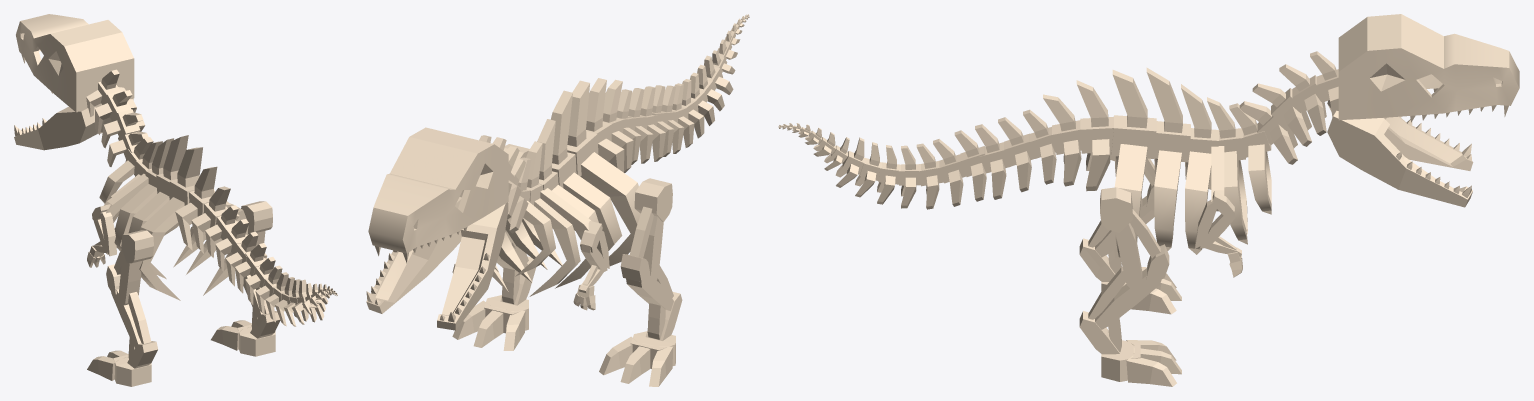
Rendered from skeletal_rex.obj.
The picture shows the model from 3 angles, left to right: view 1: azimuth 30°, elevation 25°; view 2: azimuth 150°, elevation 25°; view 3: azimuth 270°, elevation 25°; orthographic projection. The views are drawn at different scales.
Visible parts, largest first — view 1: Head, Torso, Tail, Meshes/set_10_trex_023 (1), LeftLeg, Meshes/set_10_trex_035 (1), Meshes/set_10_trex_029, Neck, Meshes/set_10_trex_036 (1), Meshes/set_10_trex_030 (1), Meshes/set_10_trex_028, LeftAltLeg (+9 smaller); view 2: Head, Torso, Meshes/set_10_trex_023 (1), Meshes/set_10_trex_029, Tail, LeftLeg, Meshes/set_10_trex_008 (1), Meshes/set_10_trex_035 (1), Meshes/set_10_trex_022 (1), Meshes/set_10_trex_004 (1), Meshes/set_10_trex_036 (1), Meshes/set_10_trex_028 (+9 smaller); view 3: Head, Torso, Tail, Meshes/set_10_trex_008 (1), Meshes/set_10_trex_029, Meshes/set_10_trex_035 (1), RightLeg, Meshes/set_10_trex_030 (1), Meshes/set_10_trex_036 (1), Meshes/set_10_trex_023 (1), Neck, Meshes/set_10_trex_028 (+9 smaller).
Boxes of the visible parts, x1,y1,x2,y2 form: Head: (16, 14, 134, 112); Torso: (104, 135, 248, 300); Tail: (175, 166, 239, 257); Meshes/set_10_trex_023 (1): (14, 106, 104, 150); LeftLeg: (106, 230, 153, 307); Meshes/set_10_trex_035 (1): (215, 219, 273, 293); Meshes/set_10_trex_029: (99, 137, 178, 235); Neck: (86, 69, 136, 134); Meshes/set_10_trex_036 (1): (245, 257, 296, 322); Meshes/set_10_trex_030 (1): (101, 109, 148, 166); Meshes/set_10_trex_028: (275, 277, 324, 326); LeftAltLeg: (111, 289, 151, 347); Head: (368, 127, 508, 263); Torso: (499, 80, 640, 288); Meshes/set_10_trex_023 (1): (437, 202, 508, 330); Meshes/set_10_trex_029: (492, 141, 580, 296); Tail: (586, 78, 641, 172); LeftLeg: (620, 178, 672, 288); Meshes/set_10_trex_008 (1): (366, 197, 461, 313); Meshes/set_10_trex_035 (1): (628, 85, 674, 163); Meshes/set_10_trex_022 (1): (599, 336, 673, 386); Meshes/set_10_trex_004 (1): (452, 300, 525, 350); Meshes/set_10_trex_036 (1): (661, 79, 704, 153); Meshes/set_10_trex_028: (690, 55, 733, 125); Head: (1338, 14, 1519, 122); Torso: (1111, 67, 1224, 258); Tail: (1023, 80, 1113, 191); Meshes/set_10_trex_008 (1): (1327, 110, 1472, 207); Meshes/set_10_trex_029: (1207, 97, 1271, 244); Meshes/set_10_trex_035 (1): (954, 117, 1034, 201); RightLeg: (1100, 187, 1169, 293); Meshes/set_10_trex_030 (1): (1239, 83, 1311, 164); Meshes/set_10_trex_036 (1): (898, 139, 966, 209); Meshes/set_10_trex_023 (1): (1327, 100, 1473, 170); Neck: (1279, 51, 1338, 135); Meshes/set_10_trex_028: (835, 137, 900, 204).
Bounding box in the file's own units: 10.33 × 14.29 × 31.52.
